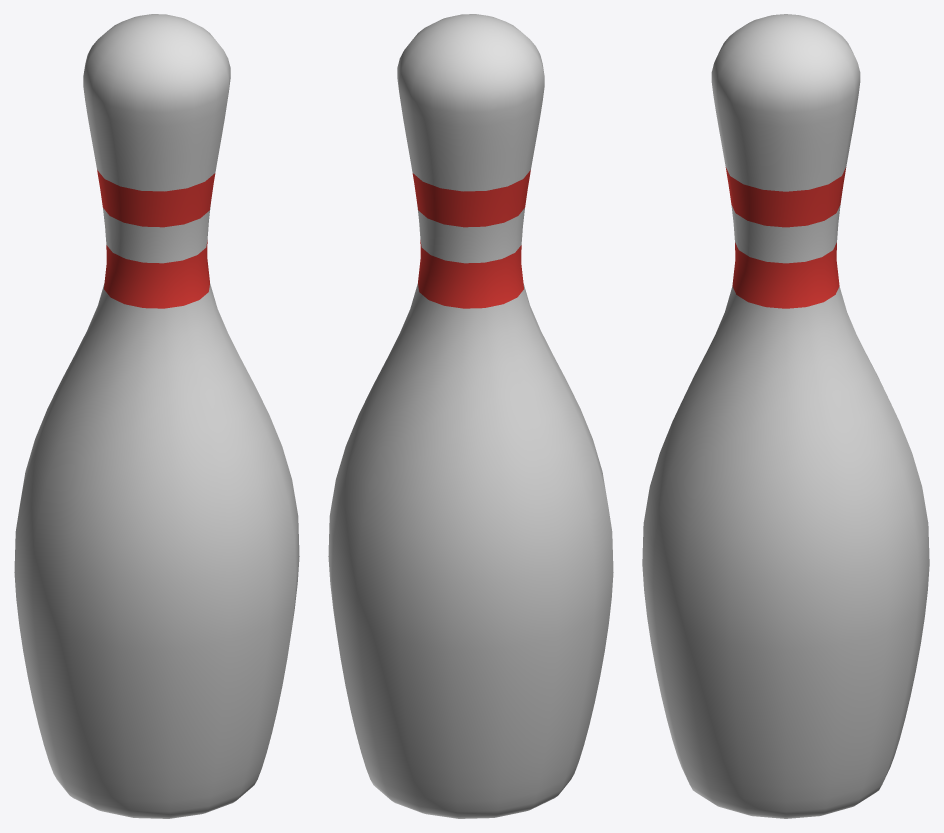
The picture shows the model from 3 angles, left to right: view 1: azimuth 30°, elevation 25°; view 2: azimuth 150°, elevation 25°; view 3: azimuth 270°, elevation 25°; orthographic projection.
Parts seen in each view (by area): view 1: pinStripe_3; view 2: pinStripe_3; view 3: pinStripe_3.
Part boxes in pixels (x1,y1,x2,y2): pinStripe_3: (14,14,299,818); pinStripe_3: (328,14,613,818); pinStripe_3: (642,14,929,818).
Size of the model in its own units: 0.1126 by 0.3333 by 0.1126.
